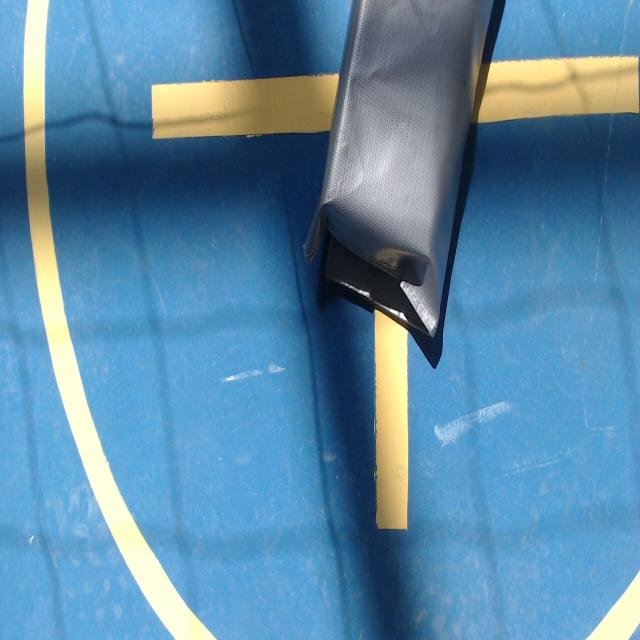direita: (304, 0, 493, 335)
